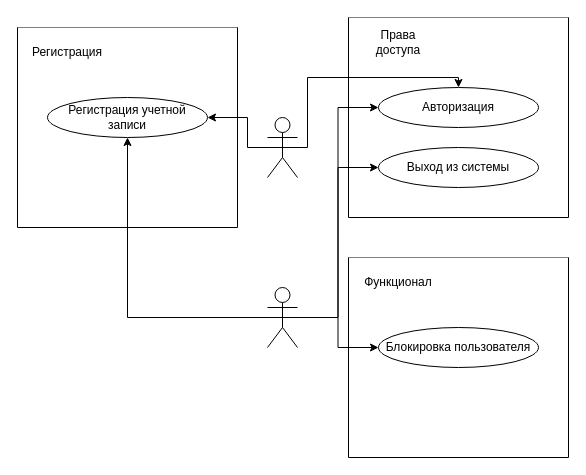
The diagram is 586 pixels wide and 475 high, and some of its shapes have lost their labels. The box of each missing label's shape, as (x1, y1, x2, y2) in pixels:
Админ: (266, 116, 298, 178)
Пользователь: (266, 286, 298, 348)
